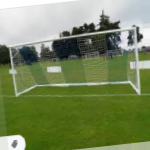goals: (6, 25, 145, 98)
